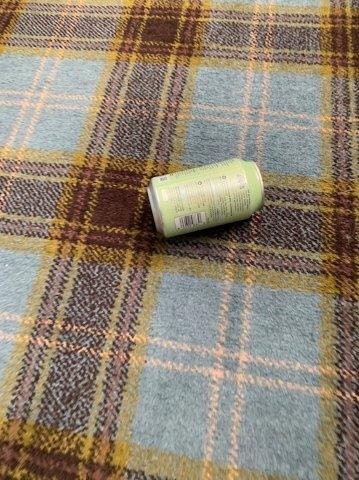kaleng: (148, 159, 263, 238)
